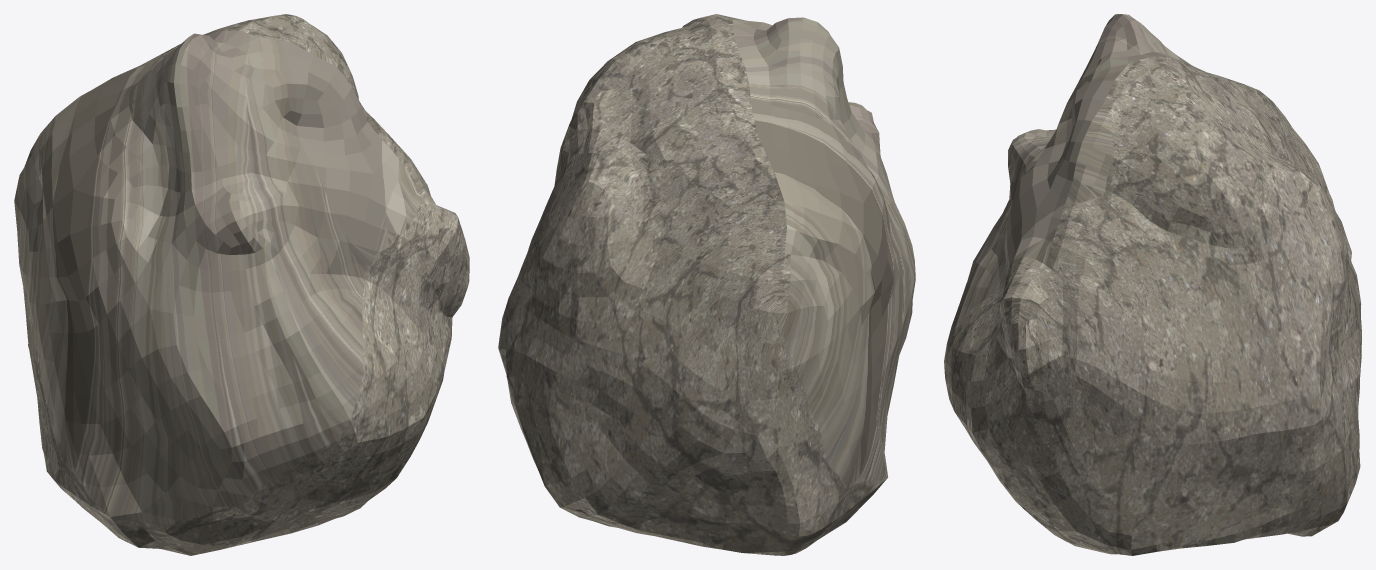
Rendered from rock_5.fbx.
3 views of the same model, side by side, from view 1: azimuth 30°, elevation 25°; view 2: azimuth 150°, elevation 25°; view 3: azimuth 270°, elevation 25° (orthographic). The views are drawn at different scales.
Parts seen in each view (by area): view 1: Rock_5_remeshed_uv_low1:Group43242; view 2: Rock_5_remeshed_uv_low1:Group43242; view 3: Rock_5_remeshed_uv_low1:Group43242.
Part boxes in pixels (x1,y1,x2,y2): Rock_5_remeshed_uv_low1:Group43242: [14, 14, 469, 555]; Rock_5_remeshed_uv_low1:Group43242: [498, 14, 915, 555]; Rock_5_remeshed_uv_low1:Group43242: [944, 14, 1361, 555].
Size of the model in its own units: 3.7 by 5.31 by 4.08.
